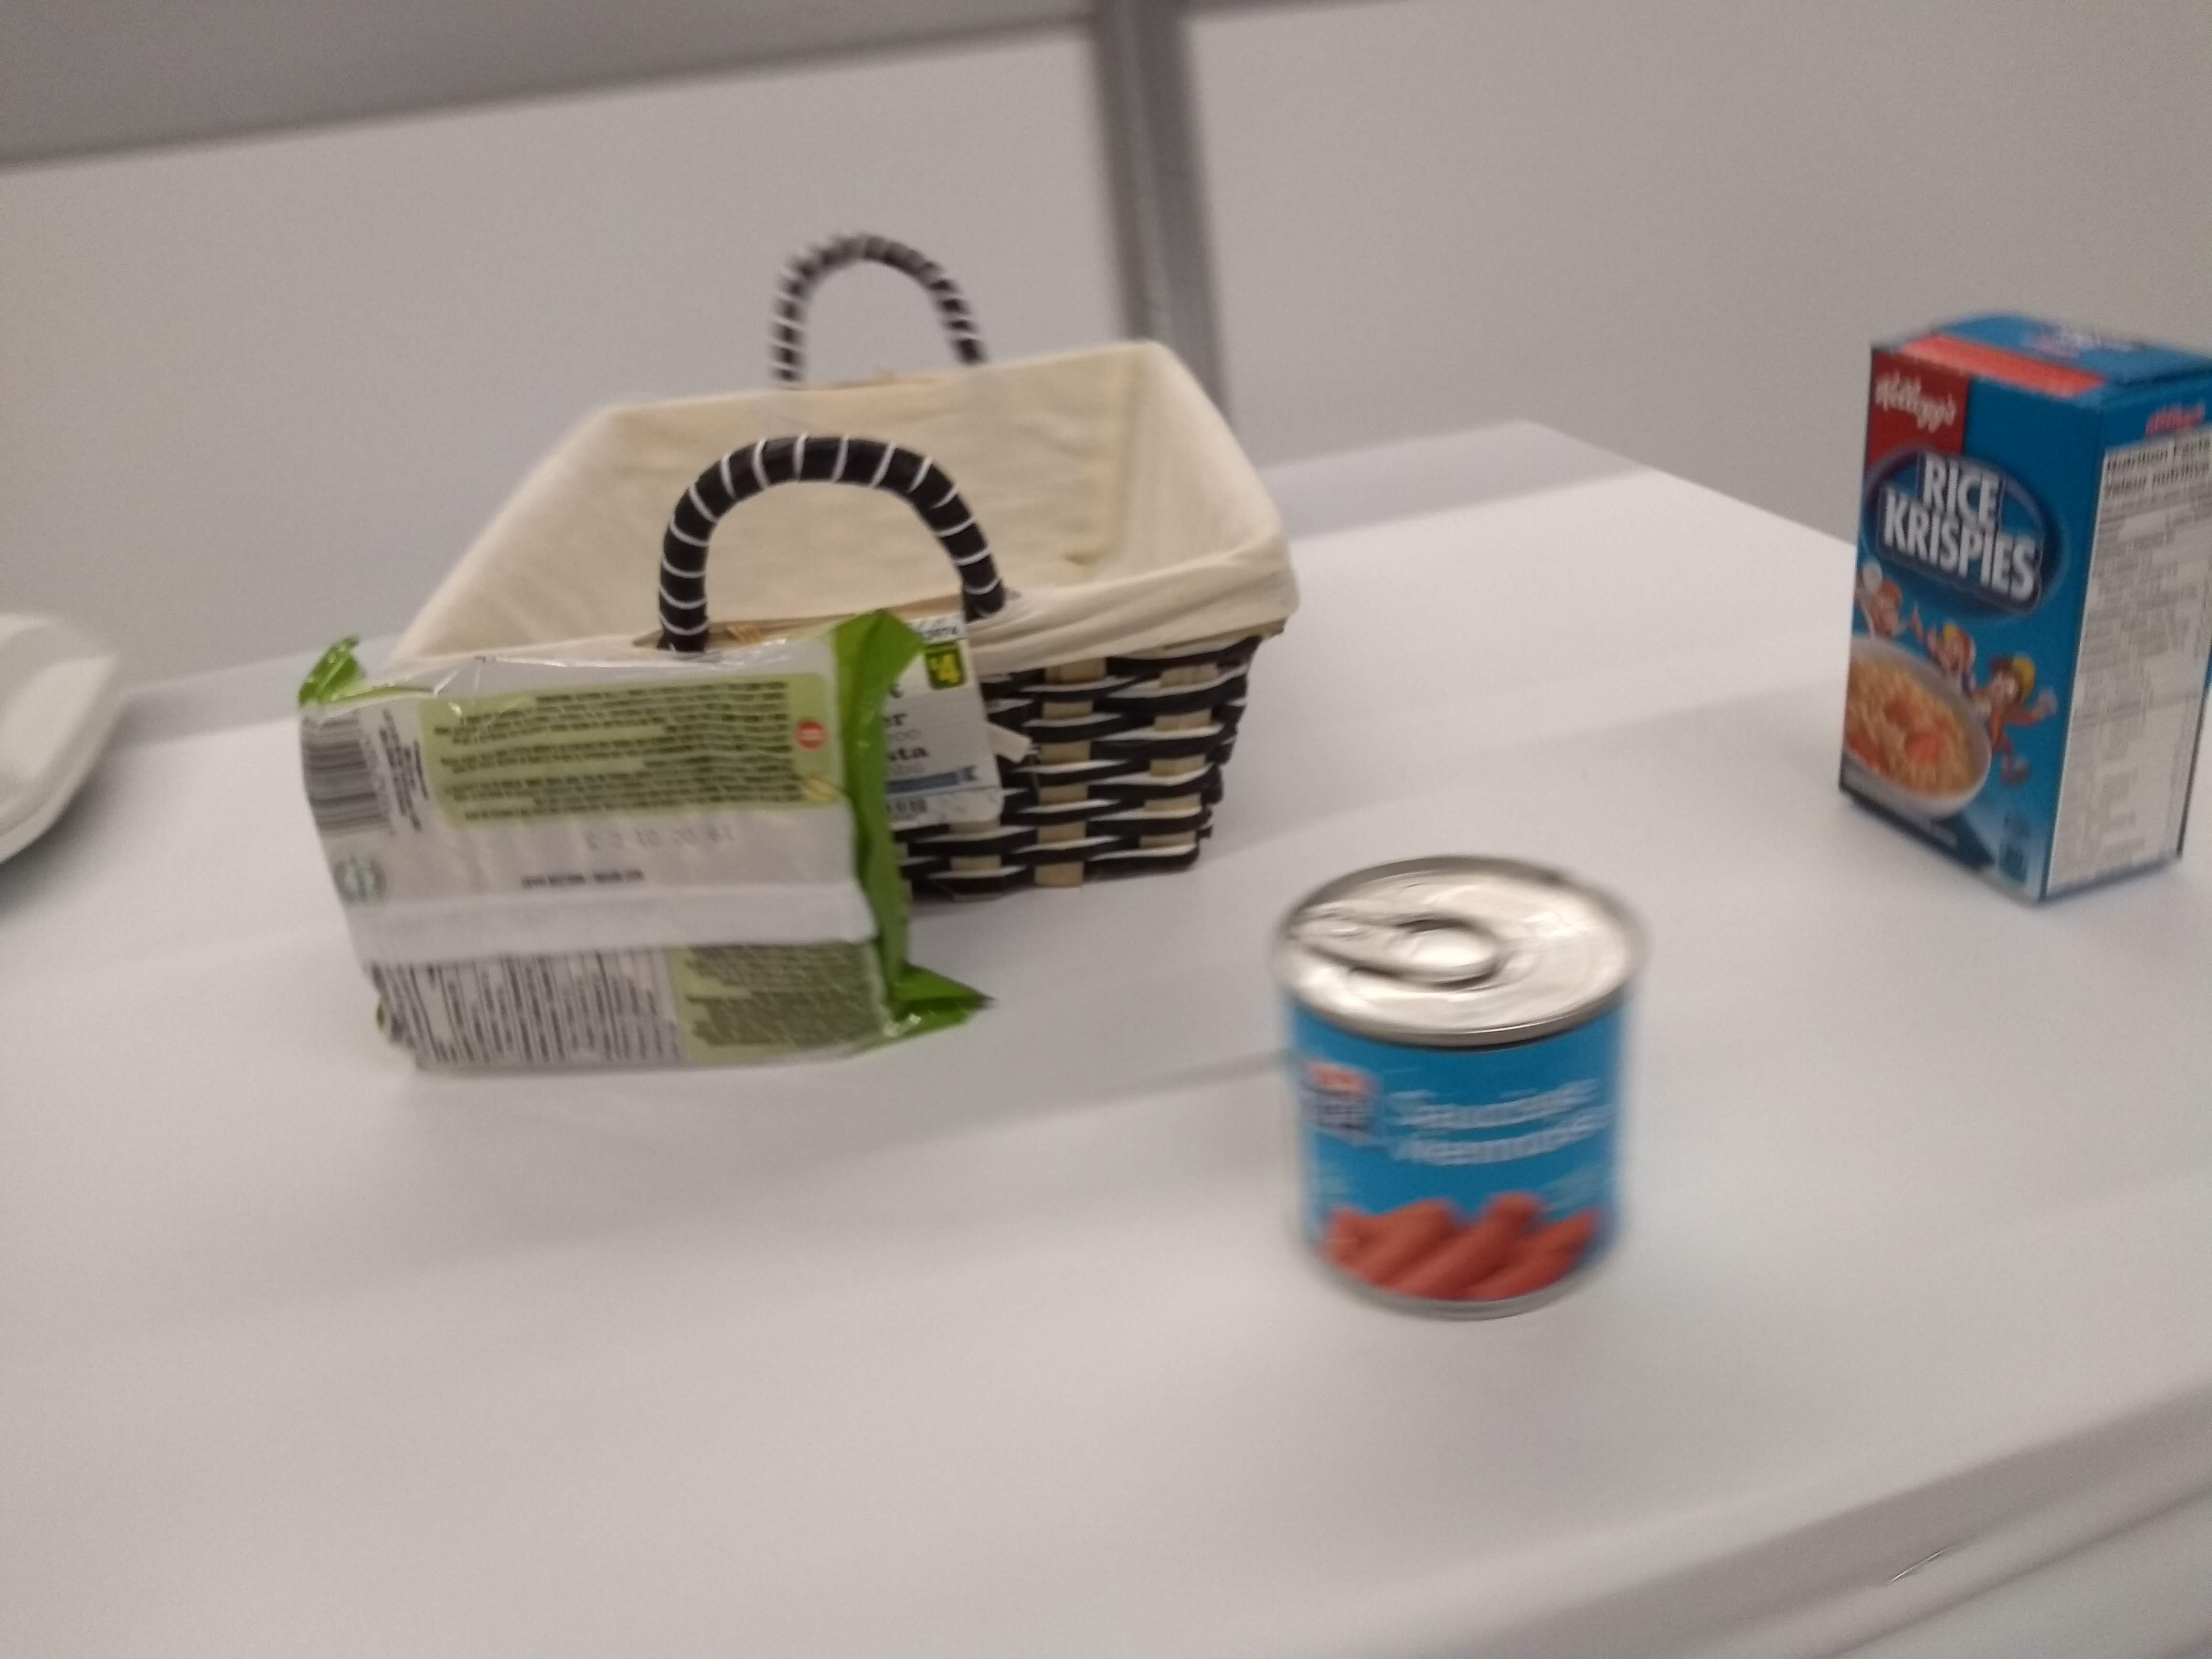cereal: (1822, 295, 2212, 920)
noodles: (286, 615, 1019, 1117)
sausages: (1261, 828, 1656, 1333)
